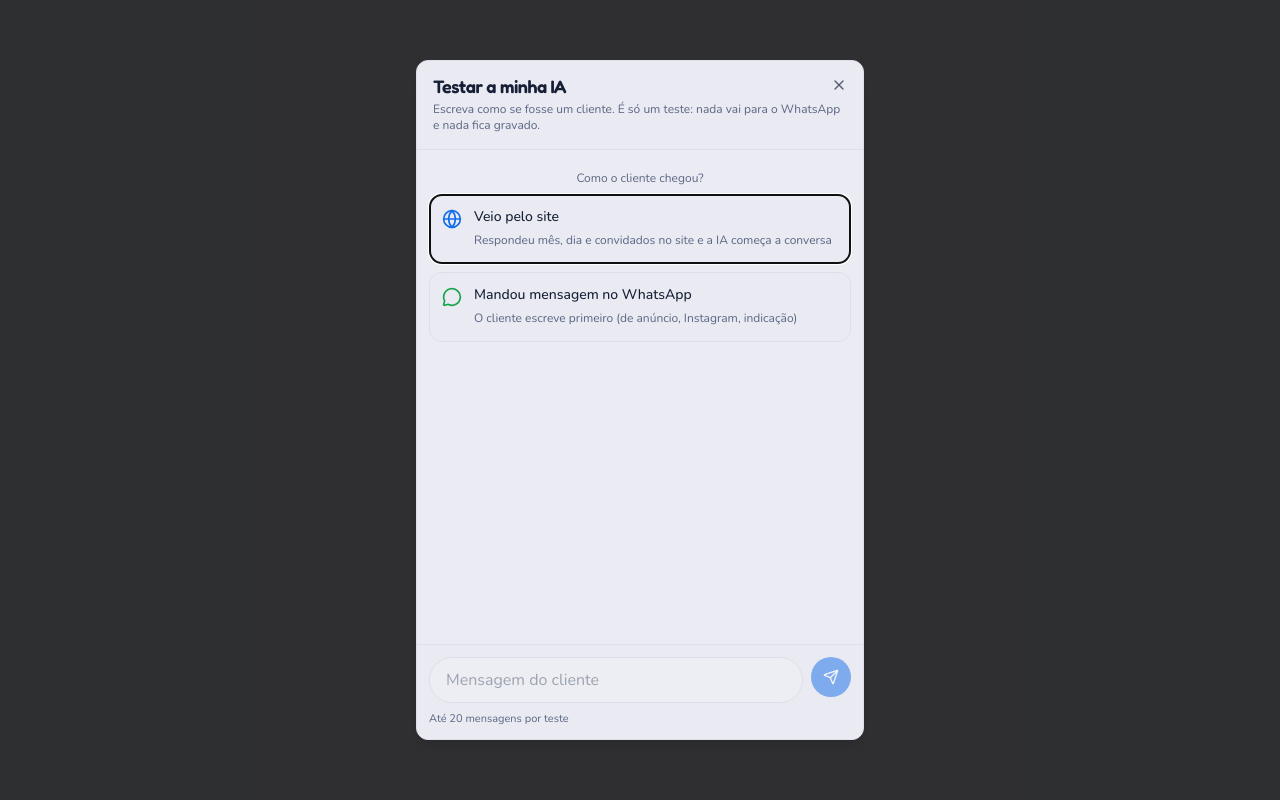
Scenario: AiTestChat › manda a mensagem do cliente e mostra a resposta da IA
Click the text "Mandou mensagem no WhatsApp" at (583, 294), box [474, 285, 692, 304]
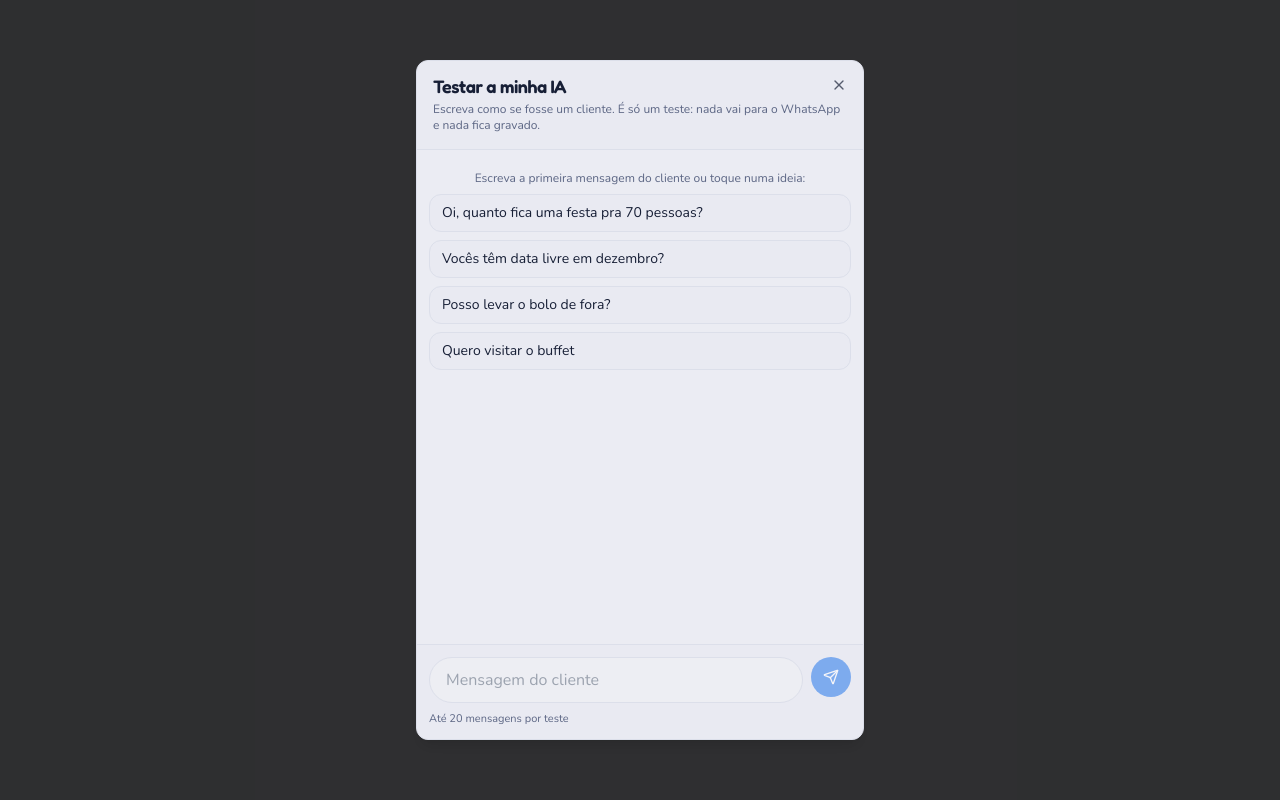
Click the button "Oi, quanto fica uma festa pra 70 pessoas?" at (640, 213), box [429, 194, 851, 232]
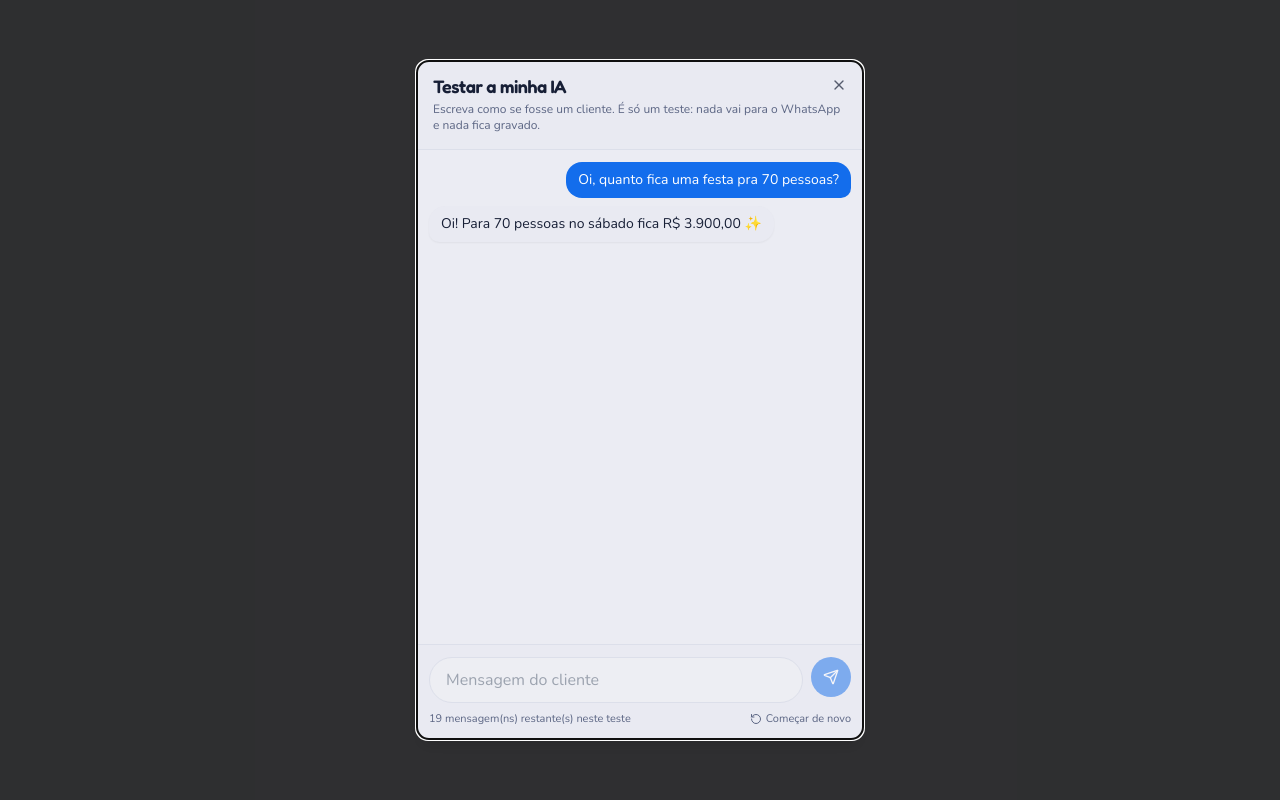
Expected: the text "Oi! Para 70 pessoas no sábado fica R$ 3.900,00 ✨" is shown, [429, 206, 774, 242]
Expected: the text "19 mensagem(ns) restante(s) neste teste" is shown, [429, 710, 631, 727]
